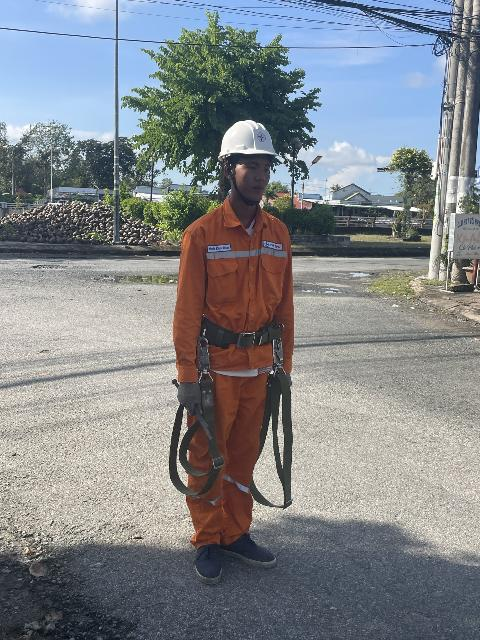gloves: (169, 373, 216, 427)
harness: (180, 304, 294, 352)
helmet: (193, 116, 298, 178)
shoes: (214, 525, 287, 585), (187, 538, 227, 586)
